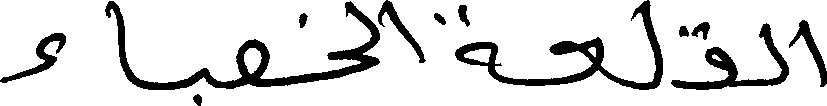ء: (0, 31, 66, 84)
ا: (384, 0, 424, 64), (797, 18, 826, 87), (109, 0, 130, 83)
ب: (183, 65, 211, 105)
ة: (431, 2, 496, 79)
خ: (291, 12, 376, 78)
ص: (235, 37, 271, 88)
ع: (550, 35, 604, 85)
ق: (678, 20, 737, 90)
ل: (638, 0, 663, 91), (761, 20, 790, 86), (341, 0, 379, 47)
